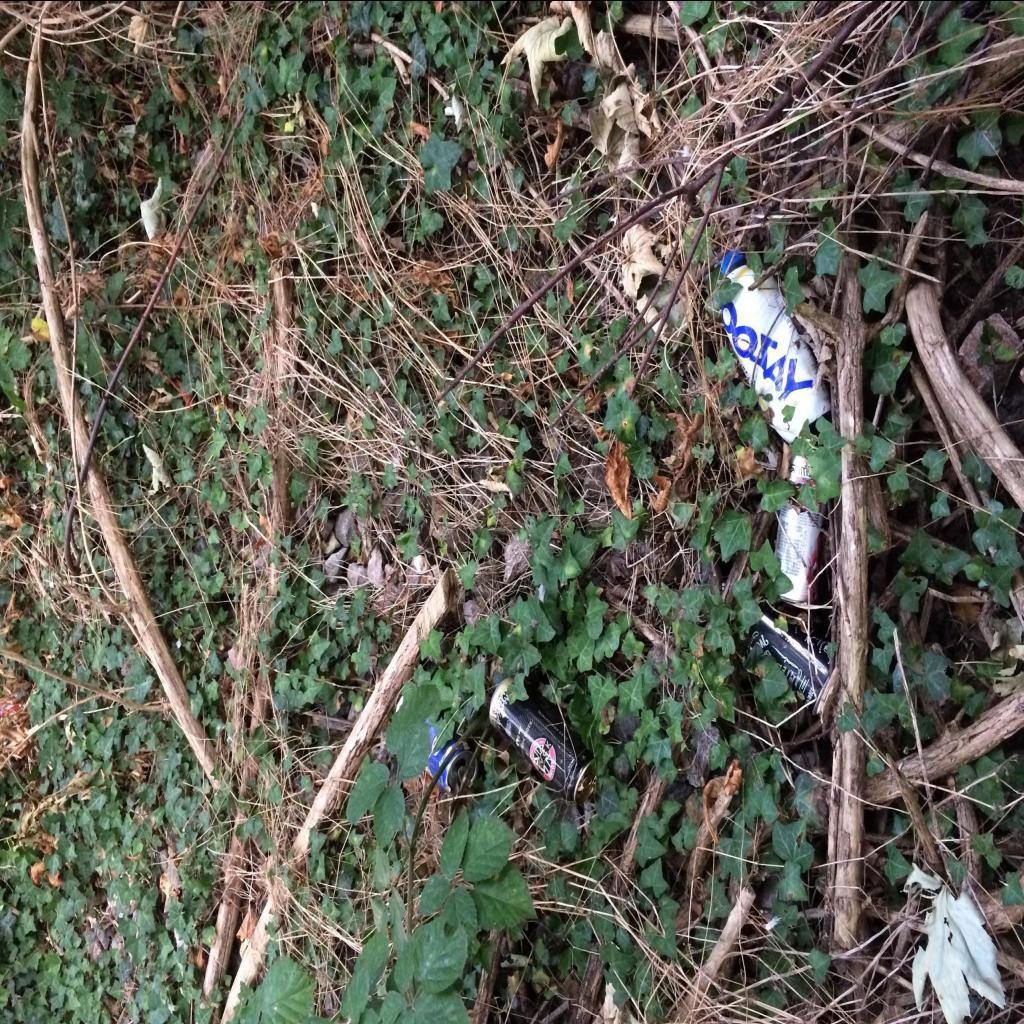Clear plastic bottle: (720, 248, 830, 443)
Drink can: (489, 676, 596, 802), (746, 602, 829, 714), (396, 695, 478, 791), (774, 455, 826, 602)
Plastic bottle cap: (718, 248, 742, 268)
Pop tab: (582, 774, 596, 786)
